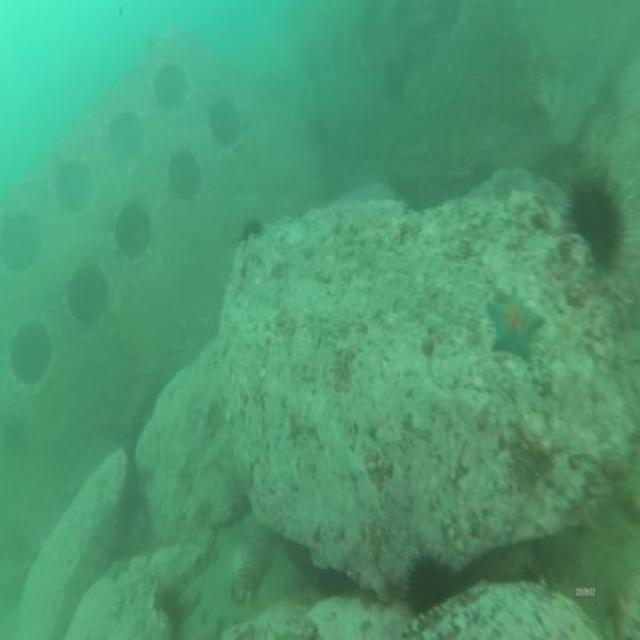echinus: (570, 174, 625, 276), (400, 547, 455, 616)
starfish: (487, 283, 547, 368)
